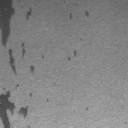red iron: (0, 90, 28, 128), (0, 0, 16, 46), (8, 50, 16, 72), (68, 50, 76, 61), (21, 42, 26, 57), (26, 8, 32, 20), (14, 83, 19, 88), (69, 13, 72, 21), (85, 11, 89, 16), (30, 66, 34, 71)
